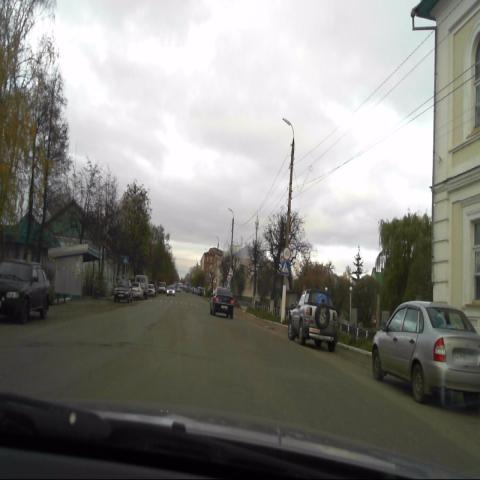3_24: (283, 246, 290, 260)
5_19_1: (281, 260, 289, 274)
